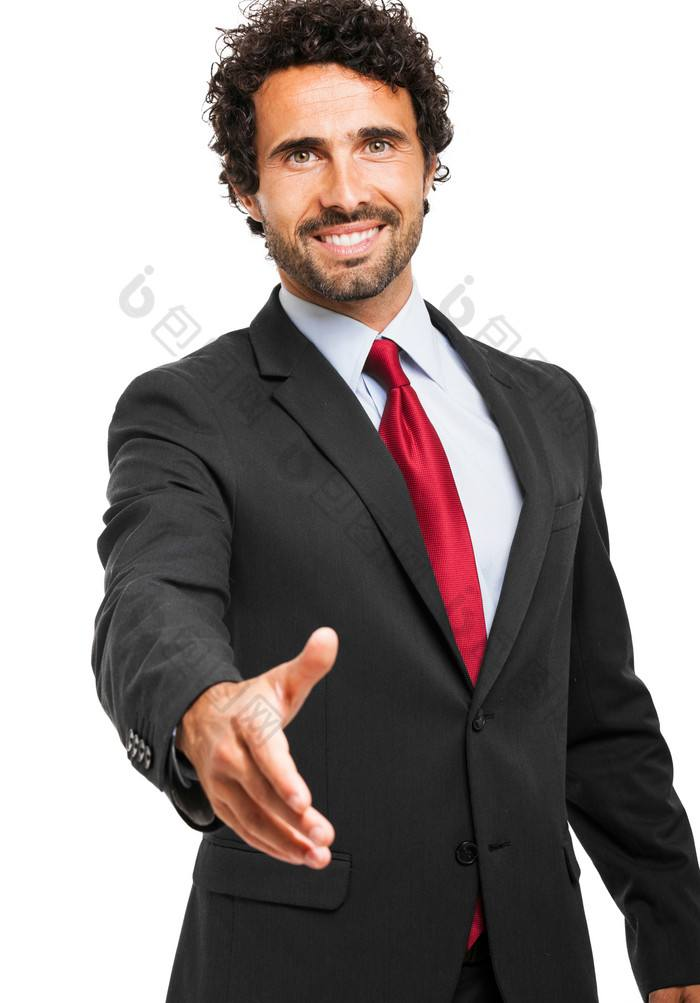no-phone: (193, 621, 350, 873)
